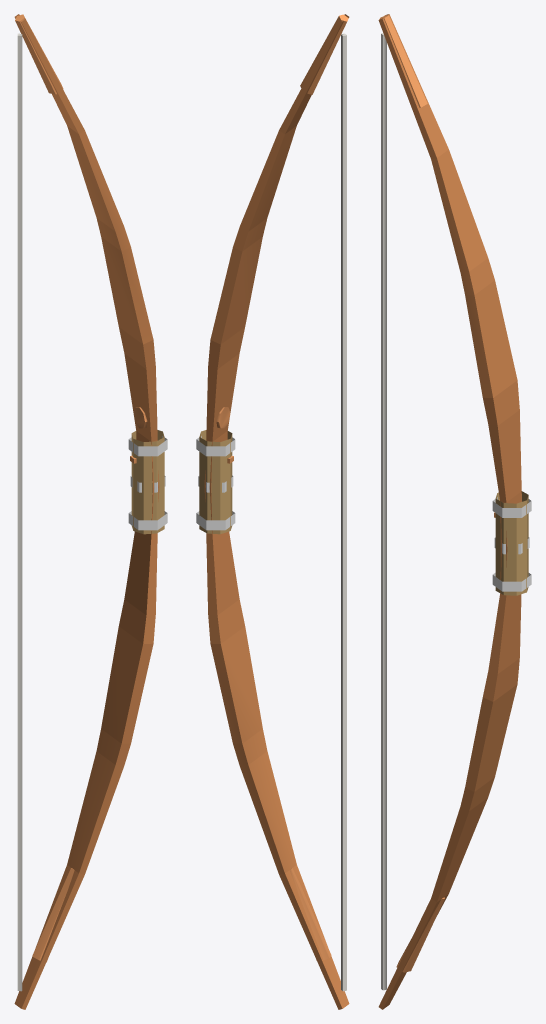
File: WPN_BOW_B01.fbx
3 views of the same model, side by side, from view 1: azimuth 30°, elevation 25°; view 2: azimuth 150°, elevation 25°; view 3: azimuth 330°, elevation 25° (orthographic).
Parts seen in each view (by area): view 1: WPN_BOW_B01; view 2: WPN_BOW_B01; view 3: WPN_BOW_B01.
Boxes of the visible parts, x1,y1,x2,y2 form: WPN_BOW_B01: [14, 14, 167, 1009]; WPN_BOW_B01: [196, 14, 349, 1009]; WPN_BOW_B01: [378, 14, 531, 1009].
Size of the model in its own units: 0.1837 by 1.18 by 0.0528.
